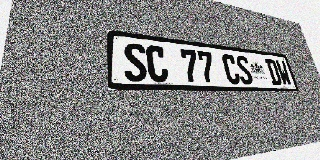7: (179, 48, 201, 83), (196, 50, 217, 84)
C: (145, 45, 169, 82), (221, 53, 241, 84)
D: (264, 58, 283, 85)
S: (123, 42, 148, 82), (234, 55, 254, 85)
W: (275, 60, 293, 86)
